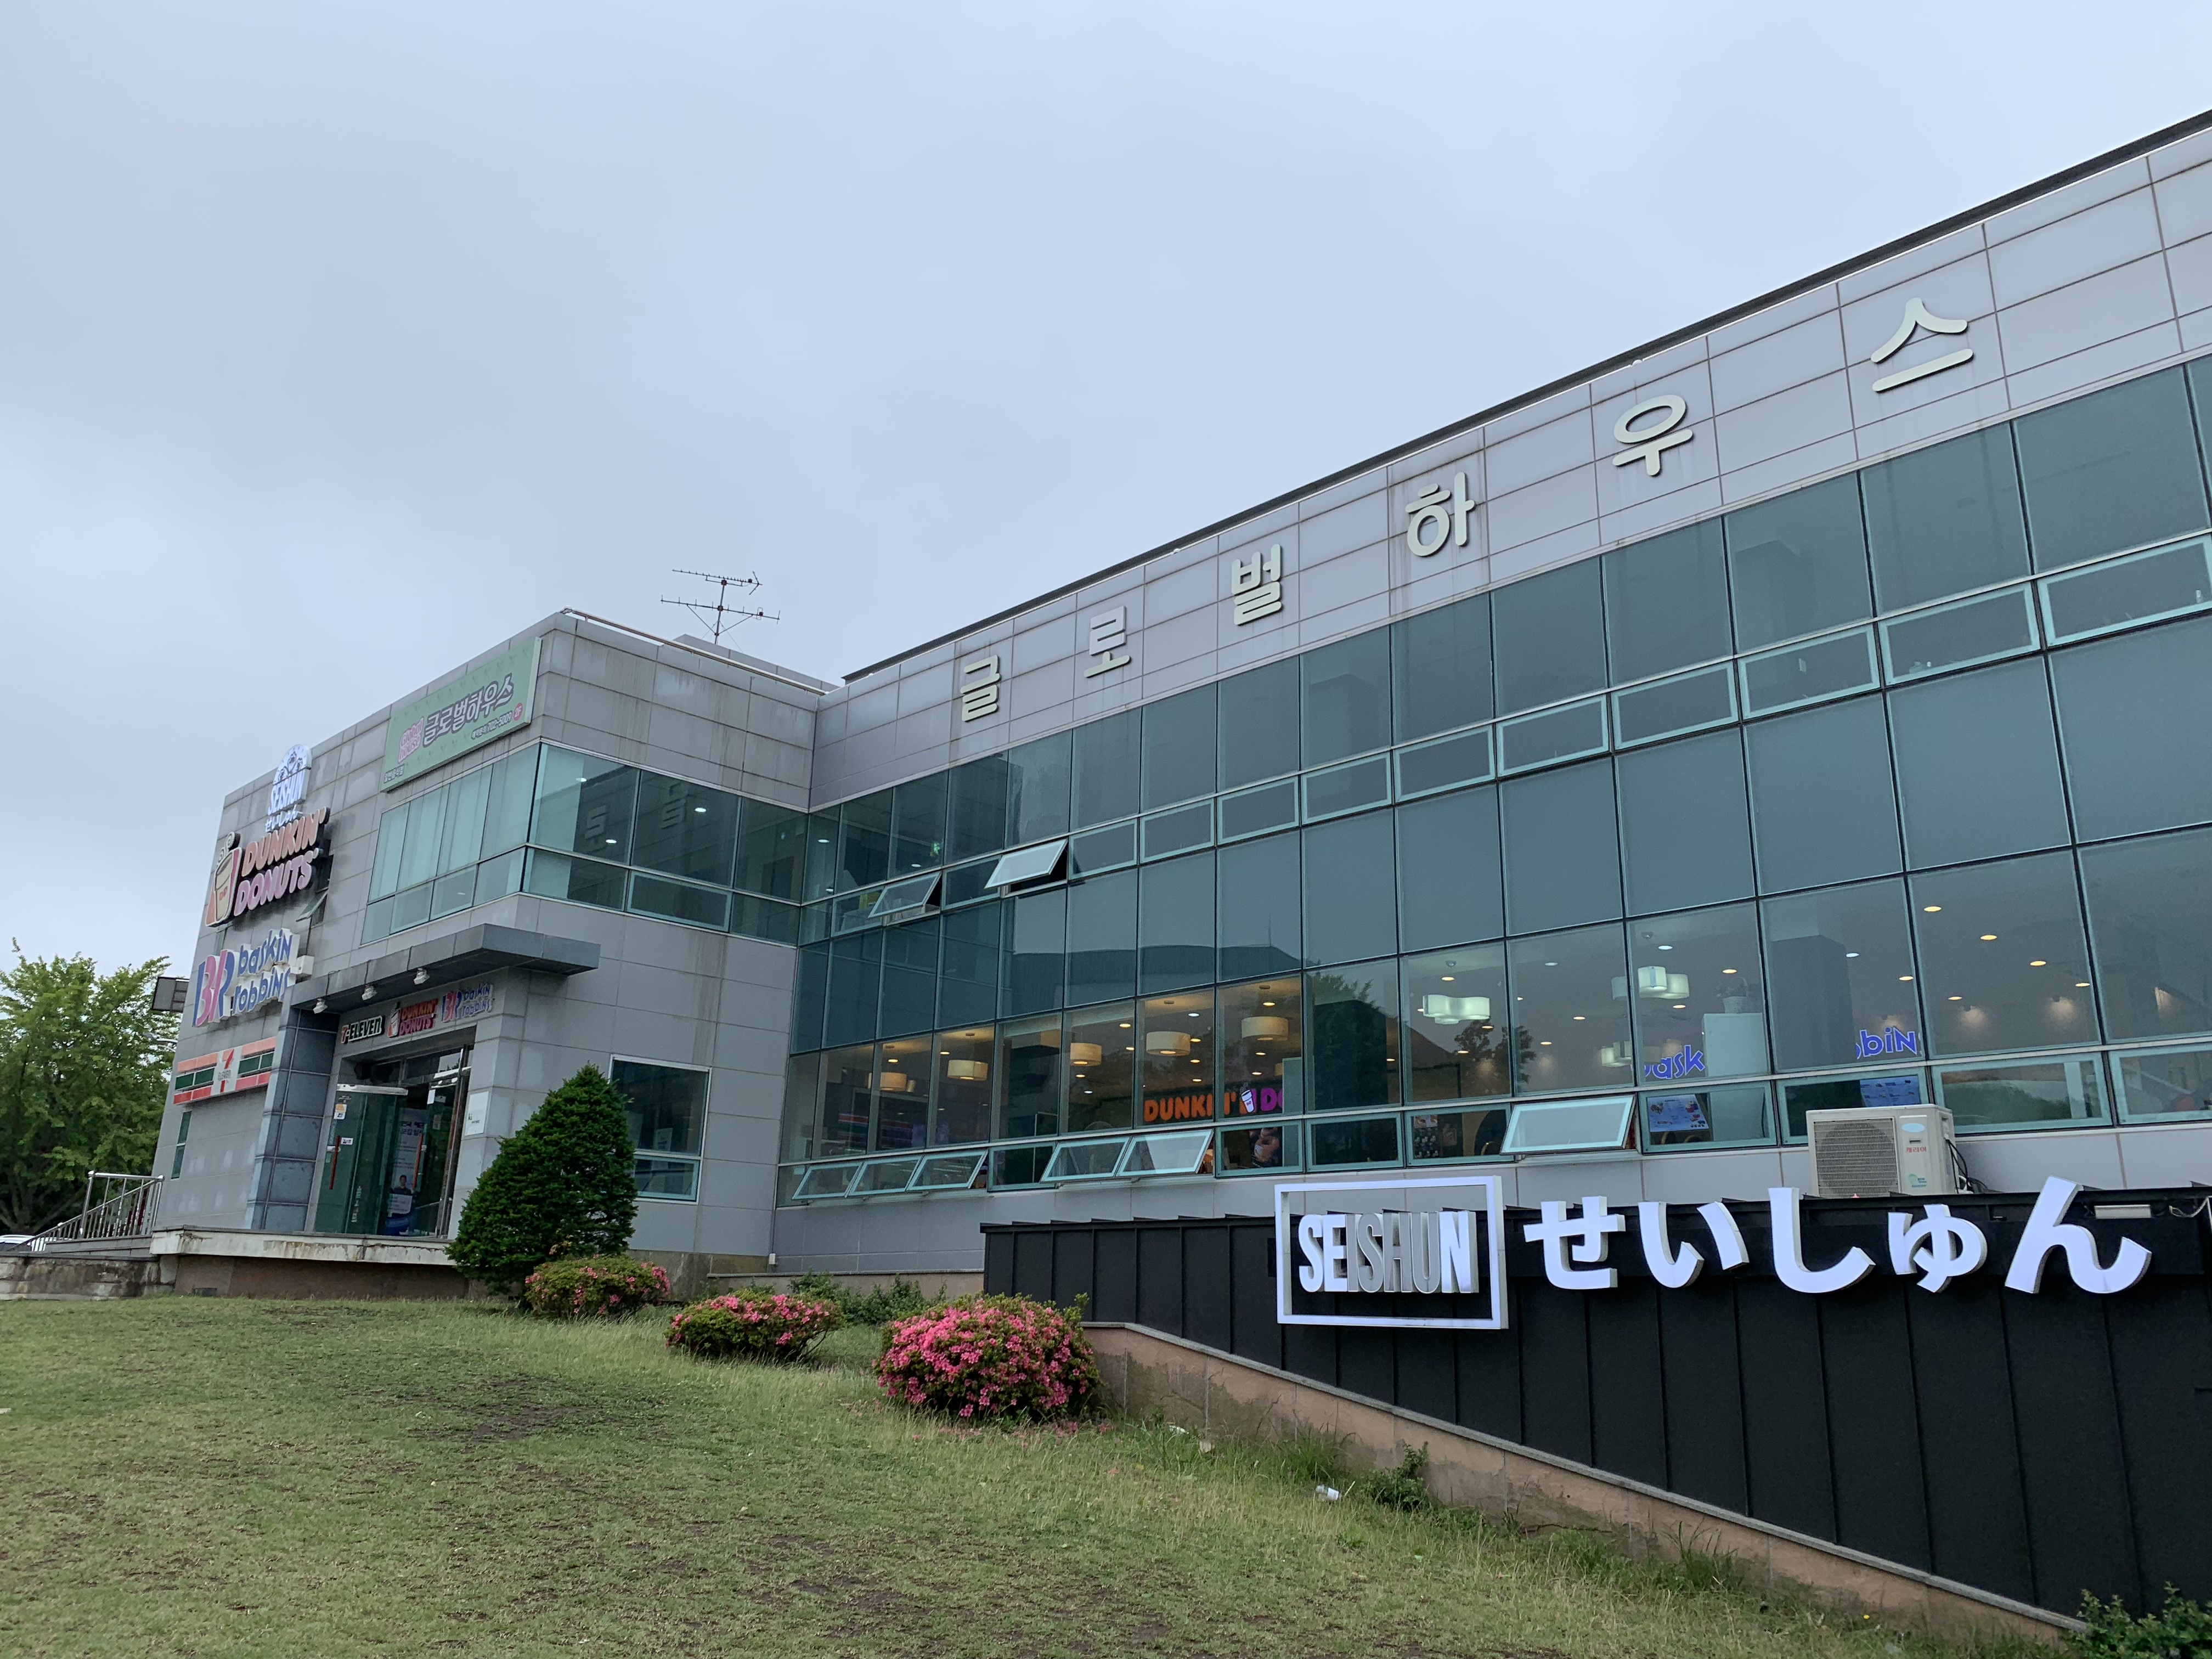Global House: (202, 430, 2188, 1333)
